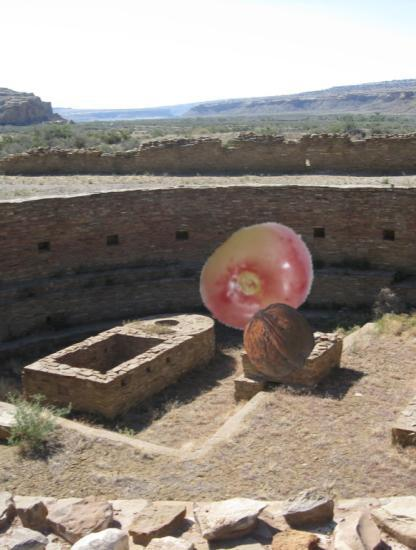Cherry: (198, 217, 319, 338)
Walnut: (242, 304, 315, 377)
